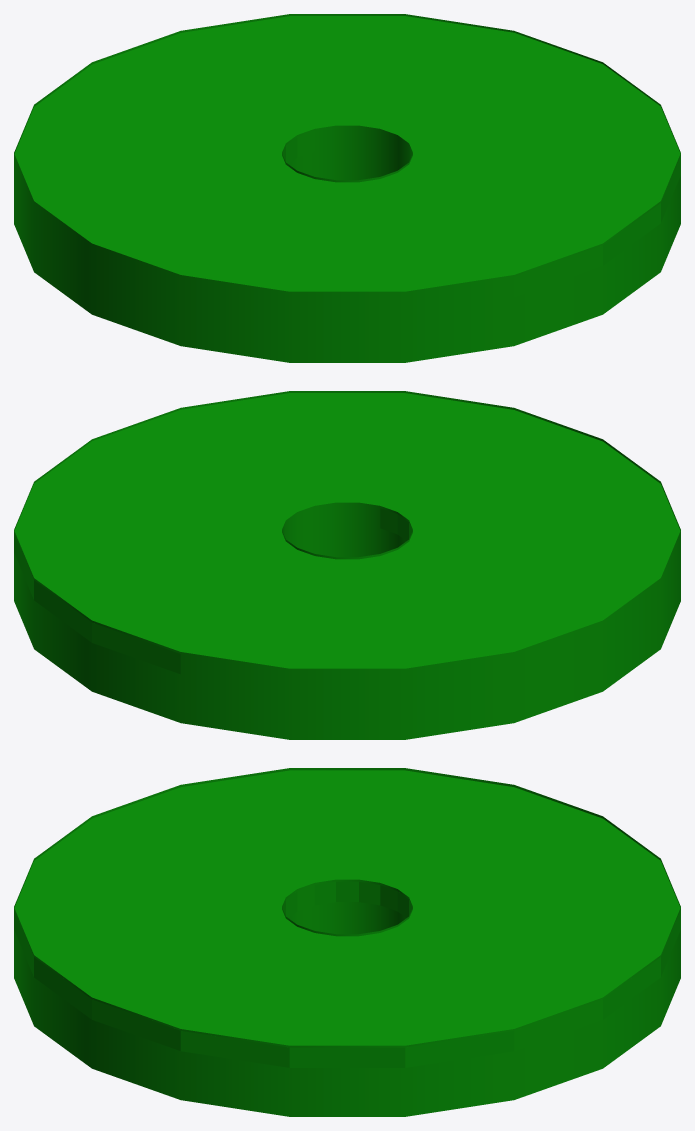
Rendered from animacion sacando CD.FBX.
3 renders of one model, top to bottom at view 1: azimuth 30°, elevation 25°; view 2: azimuth 150°, elevation 25°; view 3: azimuth 270°, elevation 25°, orthographic.
Visible parts, largest first — view 1: Tapa, Disco 1; view 2: Tapa, Disco 1; view 3: Tapa, Disco 1.
Part boxes in pixels (bbox=[...]): Tapa: bbox=[14, 16, 680, 297]; Disco 1: bbox=[14, 14, 680, 362]; Tapa: bbox=[14, 393, 680, 674]; Disco 1: bbox=[14, 391, 680, 739]; Tapa: bbox=[14, 770, 680, 1067]; Disco 1: bbox=[14, 768, 680, 1116].
Bounding box in the file's own units: 100 × 12.07 × 102.
